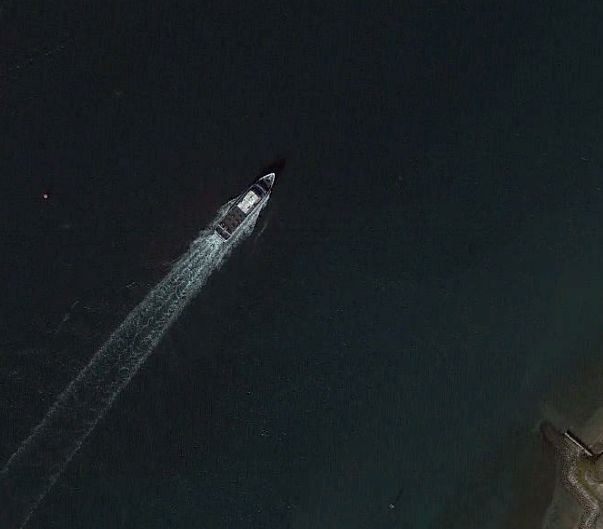boat: (207, 168, 280, 248)
